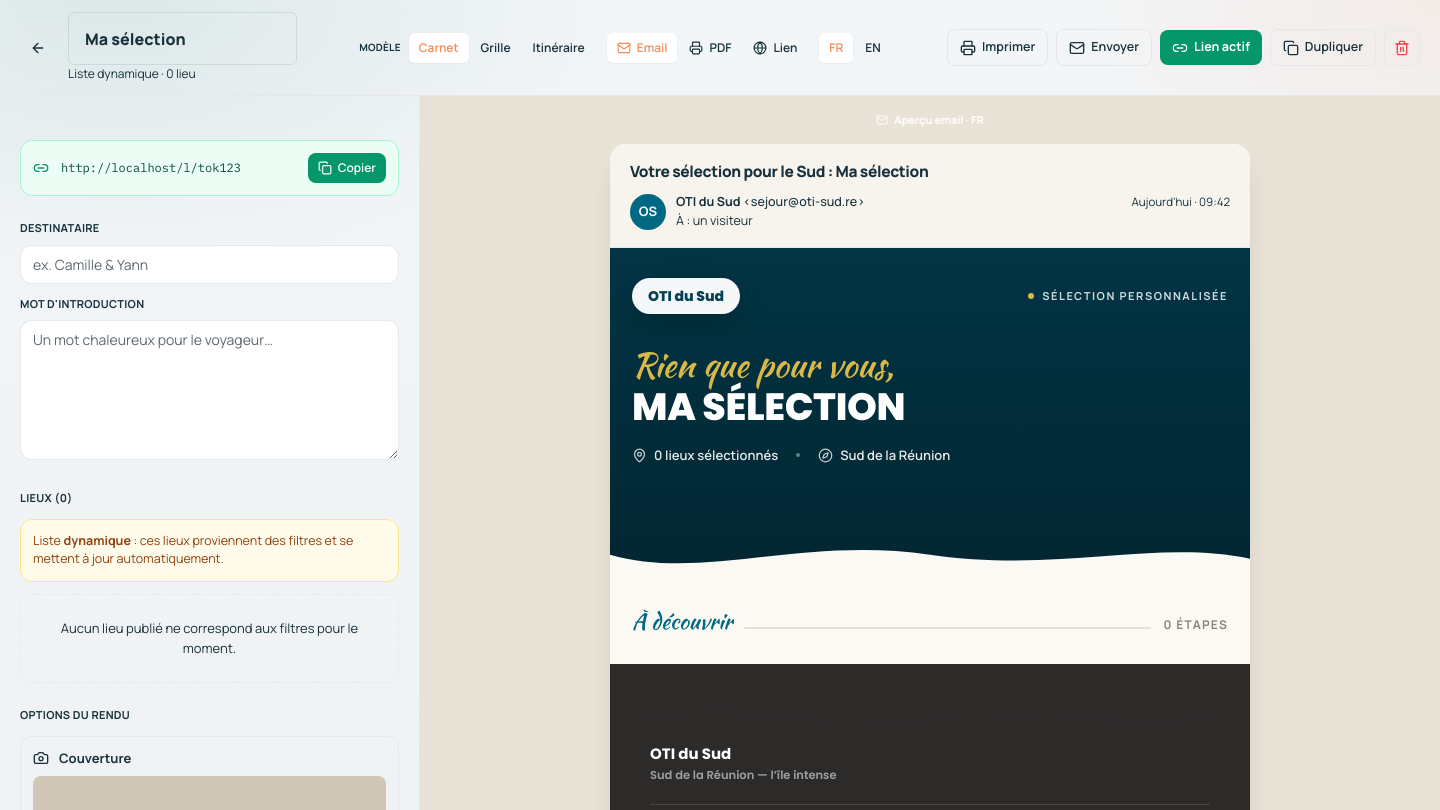
Test: ListComposeView — modal « Partager par lien » › n'éteint plus un lien déjà actif : le clic rouvre le modal sans muter
What coordinates should you click on to do the following:
click the button "Lien actif"
I would click on:
 (1211, 48)
Its box is [1160,30,1262,65].
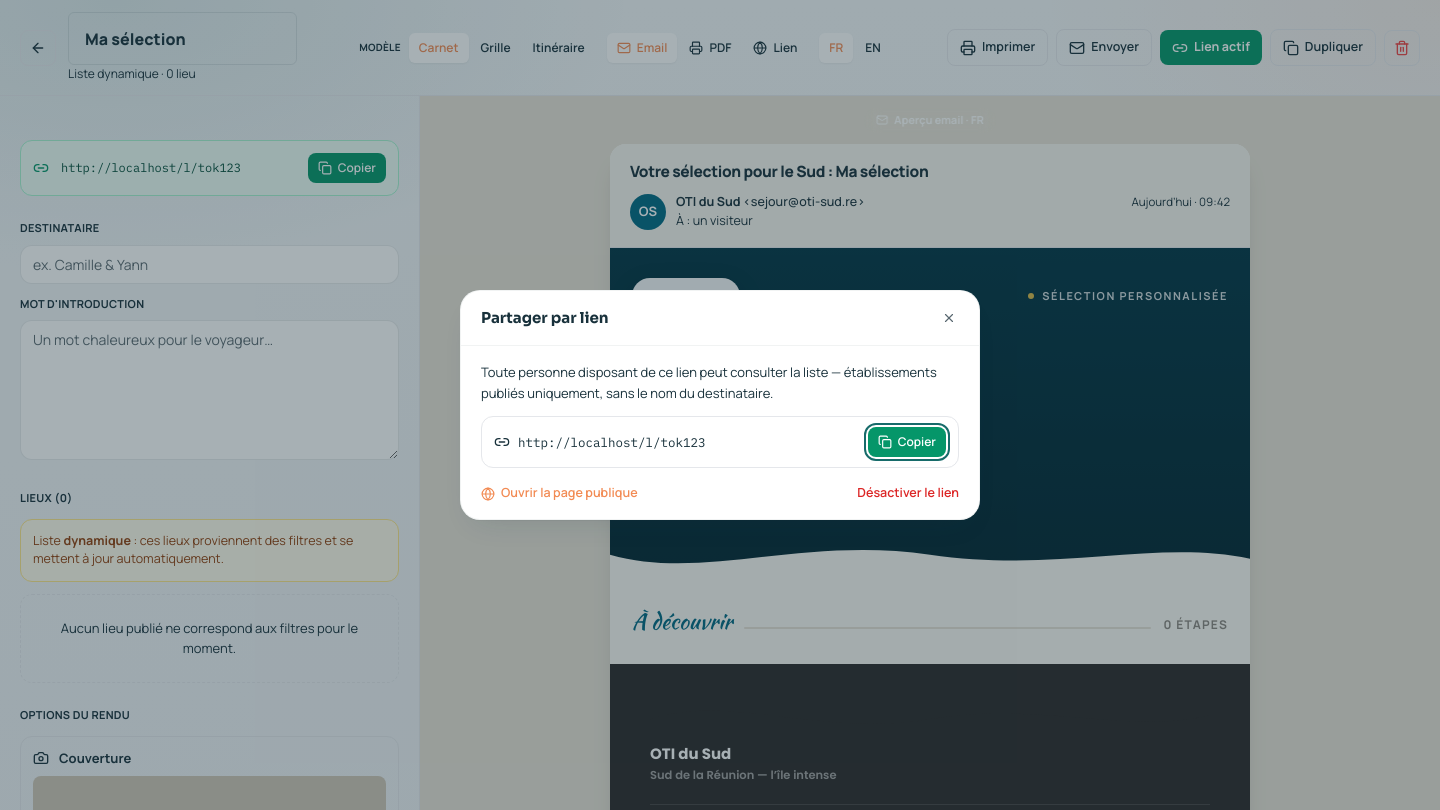
expect the text "http://localhost/l/tok123" is shown: met, box [518,434,706,450]
